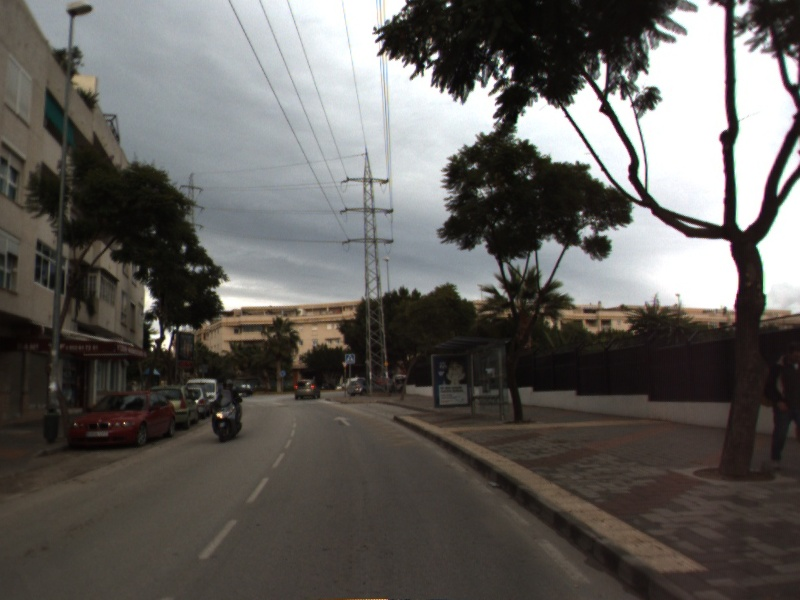STRAIGHT: (331, 413, 354, 428)
